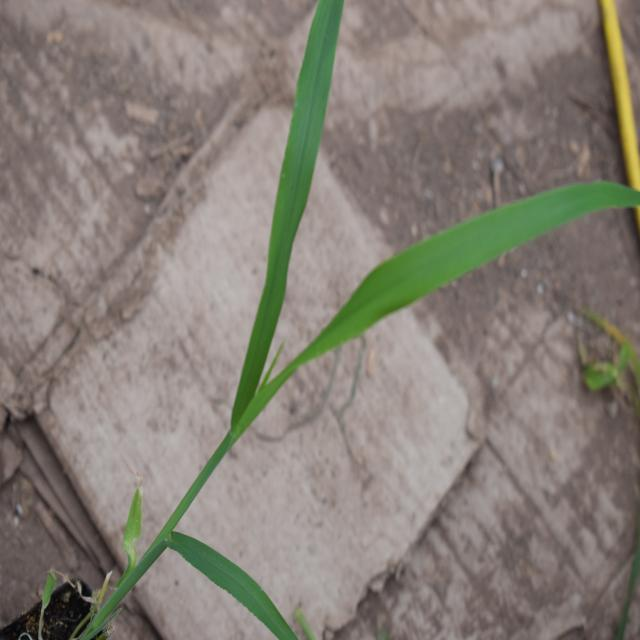crabgrass: (219, 0, 592, 468)
